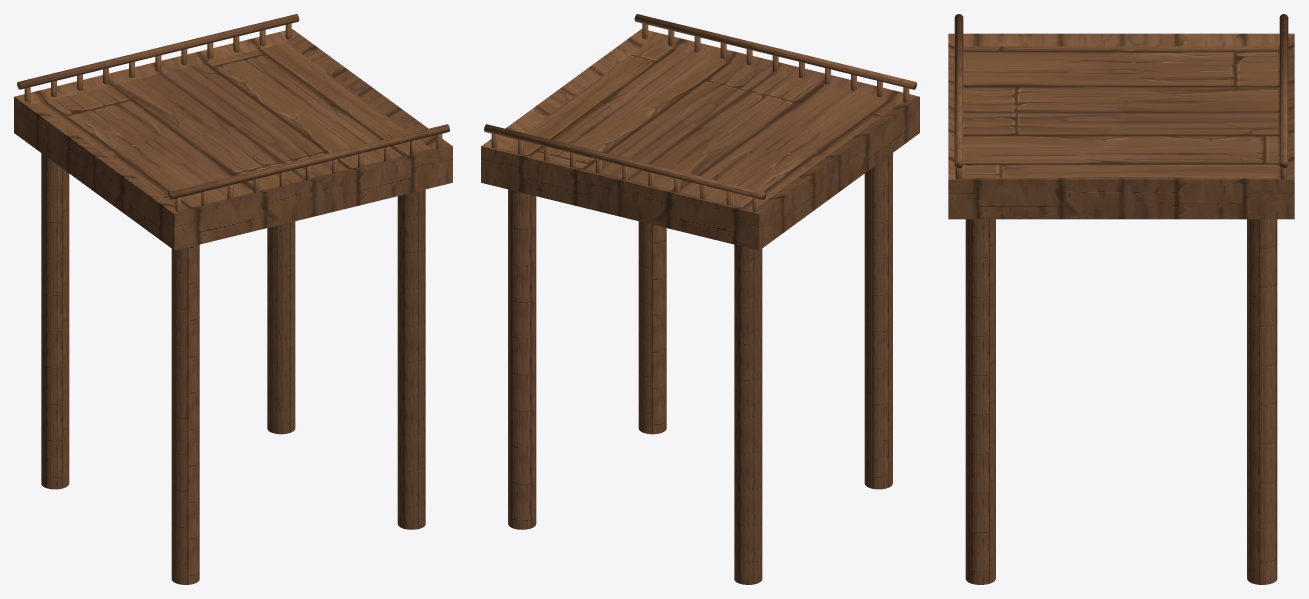
Rendered from SplashLower16.fbx.
3 views of the same model, side by side, from view 1: azimuth 30°, elevation 25°; view 2: azimuth 150°, elevation 25°; view 3: azimuth 270°, elevation 25° (orthographic). The views are drawn at different scales.
Parts seen in each view (by area): view 1: Ground, pillar.004; view 2: Ground, pillar.004; view 3: Ground, pillar.004.
Part boxes in pixels (x1,y1,x2,y2): Ground: (14,29,452,250); pillar.004: (17,14,449,584); Ground: (481,29,919,250); pillar.004: (484,14,916,584); Ground: (948,33,1294,219); pillar.004: (954,14,1288,584).
Bounding box in the file's own units: 1600 × 2200 × 1600.
